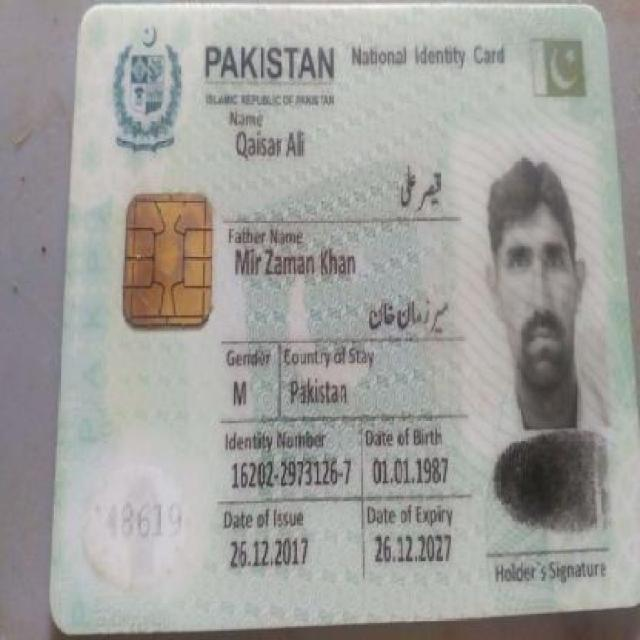Front: (52, 6, 631, 614)
